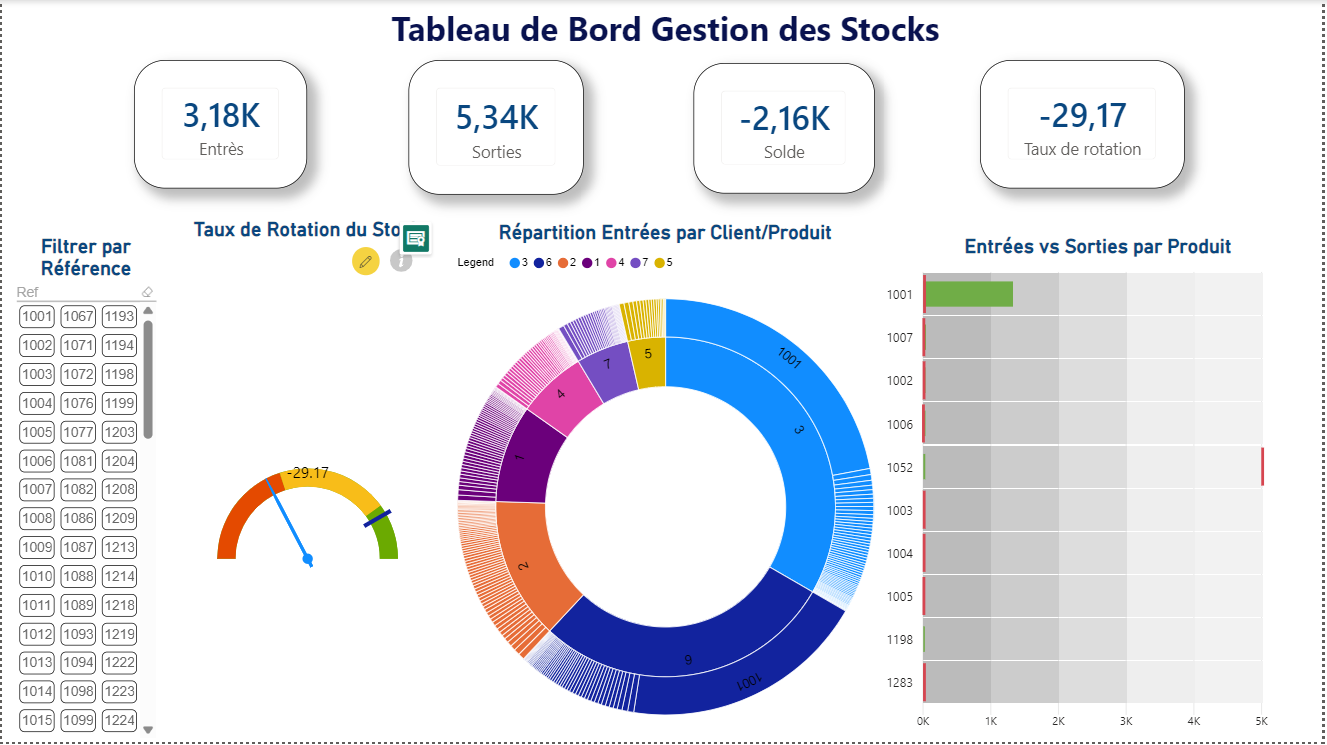

The dashboard page shown, as its layout file describes it:
{"tool":"powerbi","page":{"name":"Gestion des Stocks","canvas":[1280,720],"ordinal":0},"visuals":[{"type":"textbox","box":[9.4,0,1269.9,60.5],"z":0},{"type":"cardVisual","fields":{"Data":["Indicateurs.Entrès"]},"box":[128.5,58.6,168.2,124.7],"z":1000},{"type":"cardVisual","fields":{"Data":["Indicateurs.Sorties"]},"box":[395,58.6,170.1,130.4],"z":2000},{"type":"cardVisual","fields":{"Data":["Indicateurs.Solde"]},"box":[670.9,60.5,175.7,126.6],"z":3000},{"type":"cardVisual","fields":{"Data":["Indicateurs.Taux de rotation"]},"box":[948.7,58.6,198.4,124.7],"z":4000},{"type":"ChicletSlicer1448559807354","title":"Filtrer par Référence","fields":{"Category":["Mvt.Ref"]},"box":[9.4,226.8,145.5,493.2],"z":5000},{"type":"advancedGauge97290A2225EA4EB5BC5C8D85F9ACA7DA","title":"Taux de Rotation du Stock","fields":{"value1":["Indicateurs.Taux de rotation"],"maximum1":["Indicateurs.MAX_ROT"],"target1":["Indicateurs.TARGET_ROT"],"minimum1":["Indicateurs.MIN_ROT"]},"box":[172,211.7,249.5,508.4],"z":6000},{"type":"PBI_CV_9272D058_BEA0_476A_B090_A712545F92FA","title":"Entrées vs Sorties par Produit","fields":{"Category":["Mvt.Ref"],"Value":["Indicateurs.Entrès"],"targets":["Indicateurs.Sorties"]},"box":[846.6,226.8,432.8,493.2],"z":7000},{"type":"Sunburst1445472000808","title":"Répartition Entrées par Client/Produit","fields":{"Nodes":["Mvt.ID_Client","Mvt.Ref"],"Values":["Indicateurs.Entrès"]},"box":[436.5,213.5,413.9,506.5],"z":8000}]}

Visuals, with their boxes in screenshot pixels (x1, y1, x2, y2), scaled from the page's 1280x720 canvas onto the 1327x745 screenshot:
textbox: (10,0,1326,63)
cardVisual - Indicateurs.Entrès: (133,61,308,190)
cardVisual - Indicateurs.Sorties: (410,61,586,196)
cardVisual - Indicateurs.Solde: (696,63,878,194)
cardVisual - Indicateurs.Taux de rotation: (984,61,1189,190)
"Filtrer par Référence" ChicletSlicer1448559807354: (10,235,161,744)
"Taux de Rotation du Stock" advancedGauge97290A2225EA4EB5BC5C8D85F9ACA7DA: (178,219,437,744)
"Entrées vs Sorties par Produit" PBI_CV_9272D058_BEA0_476A_B090_A712545F92FA: (878,235,1326,744)
"Répartition Entrées par Client/Produit" Sunburst1445472000808: (453,221,882,744)
